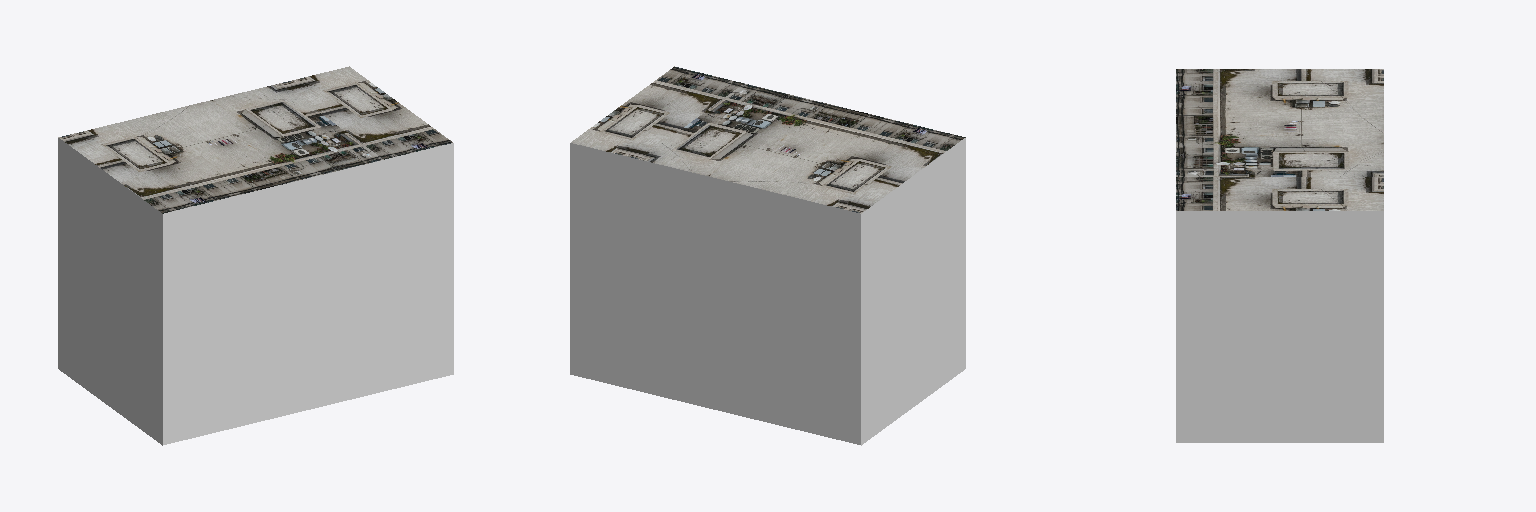
3 renders of one model, left to right at view 1: azimuth 30°, elevation 25°; view 2: azimuth 150°, elevation 25°; view 3: azimuth 270°, elevation 25°, orthographic.
Parts seen in each view (by area): view 1: Building_51.[number redacted]_31.[number redacted]; view 2: Building_51.[number redacted]_31.[number redacted]; view 3: Building_51.[number redacted]_31.[number redacted].
Part boxes in pixels (x1,y1,x2,y2): Building_51.[number redacted]_31.[number redacted]: (58, 66, 453, 445); Building_51.[number redacted]_31.[number redacted]: (570, 66, 965, 445); Building_51.[number redacted]_31.[number redacted]: (1176, 69, 1383, 442).
Bounding box in the file's own units: 51.24 × 39 × 31.8.
2 materials, 1 textured.